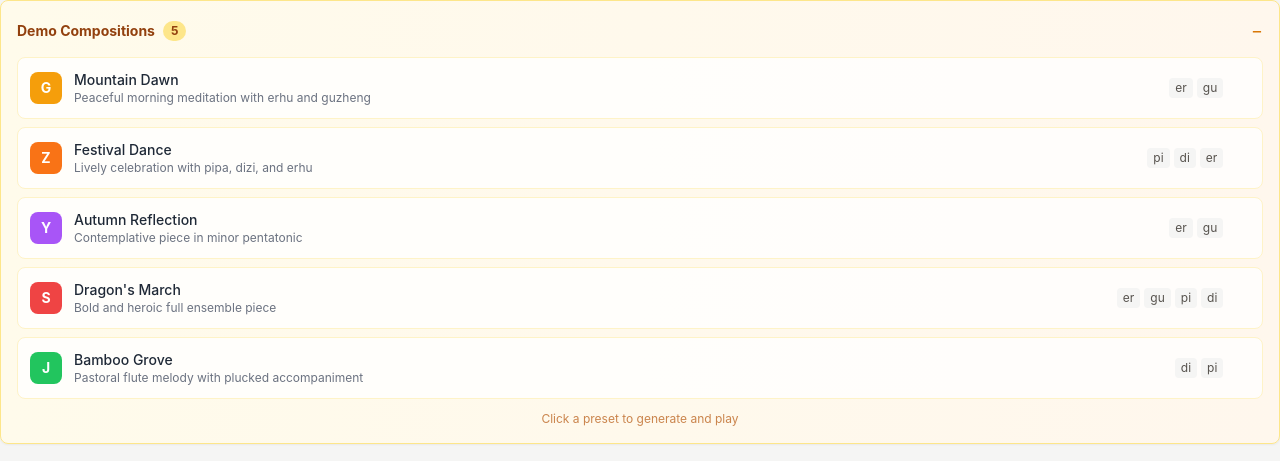
Test case: PresetGallery › expand/collapse › should collapse when header is clicked
Step 1. Click the button "Demo Compositions 5 −" → (86, 30), box [17,17,1263,45]
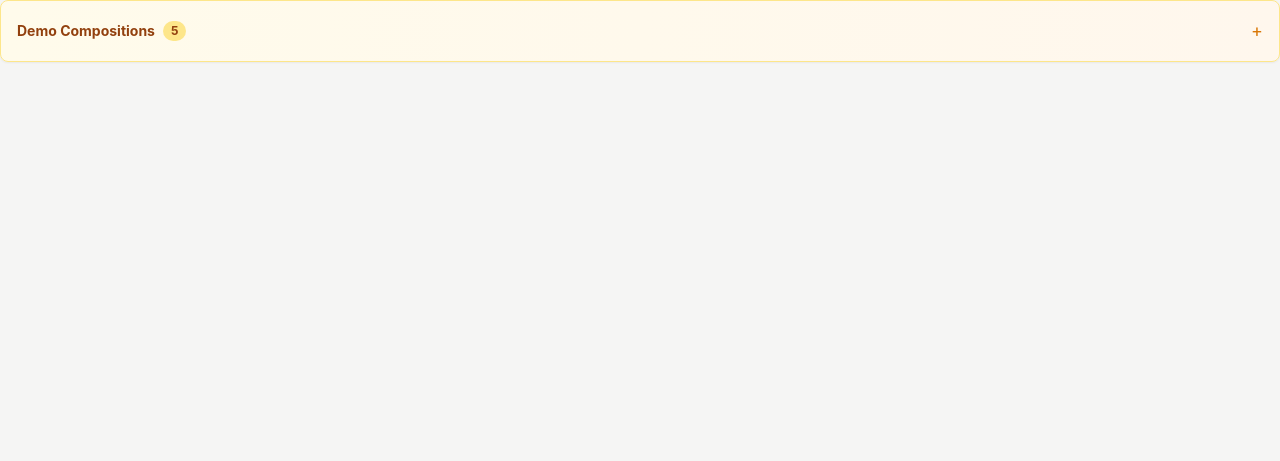
Result: the list is gone
